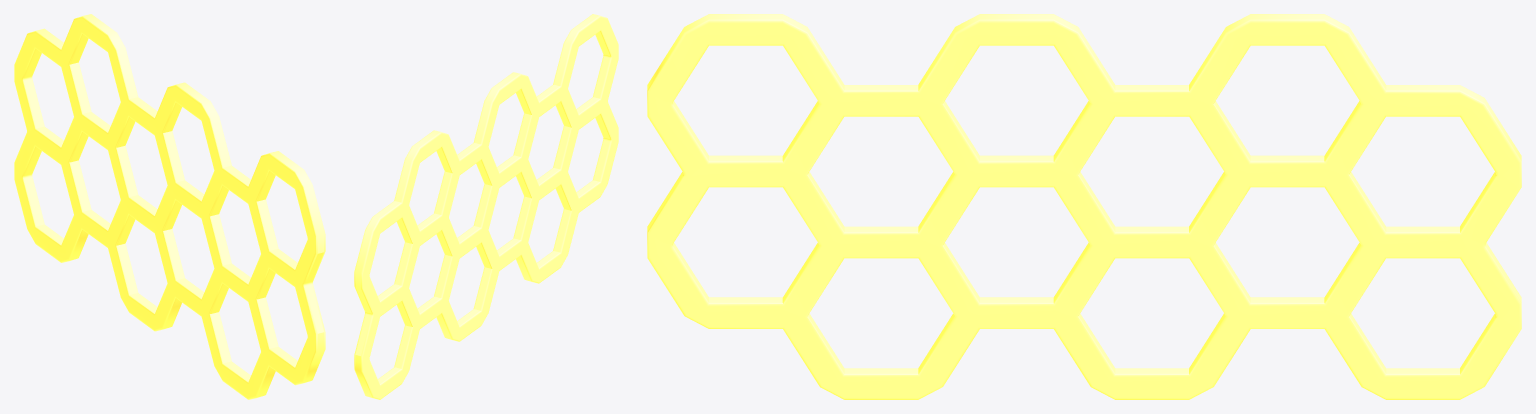
The model's file is Hola Lights.fbx.
The picture shows the model from 3 angles, left to right: view 1: azimuth 30°, elevation 25°; view 2: azimuth 150°, elevation 25°; view 3: azimuth 270°, elevation 25°; orthographic projection. The views are drawn at different scales.
Visible parts, largest first — view 1: HoneyComb; view 2: HoneyComb; view 3: HoneyComb.
Part boxes in pixels (x1,y1,x2,y2): HoneyComb: (14, 14, 325, 399); HoneyComb: (354, 14, 618, 399); HoneyComb: (647, 14, 1521, 399).
Size of the model in its own units: 1.73 by 43.17 by 89.93.
